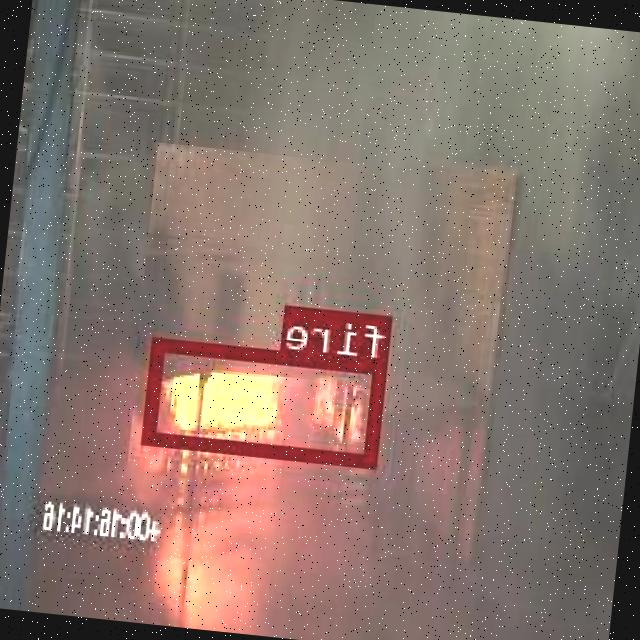fire: (146, 336, 389, 466)
